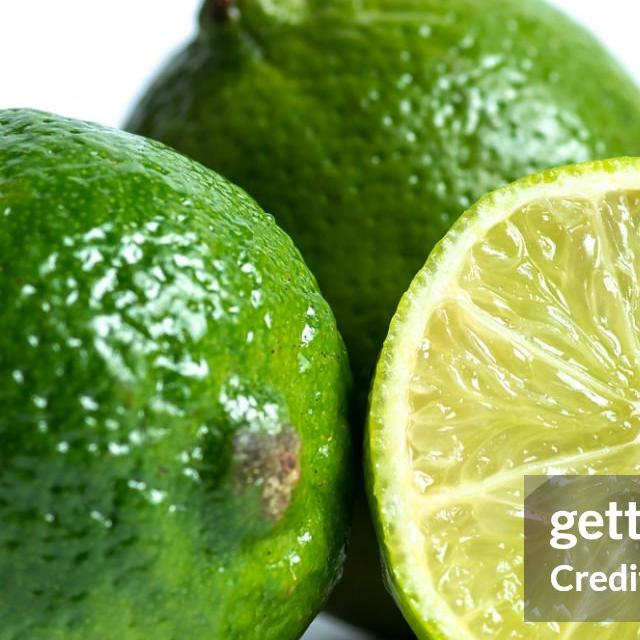lime: (0, 109, 353, 640)
